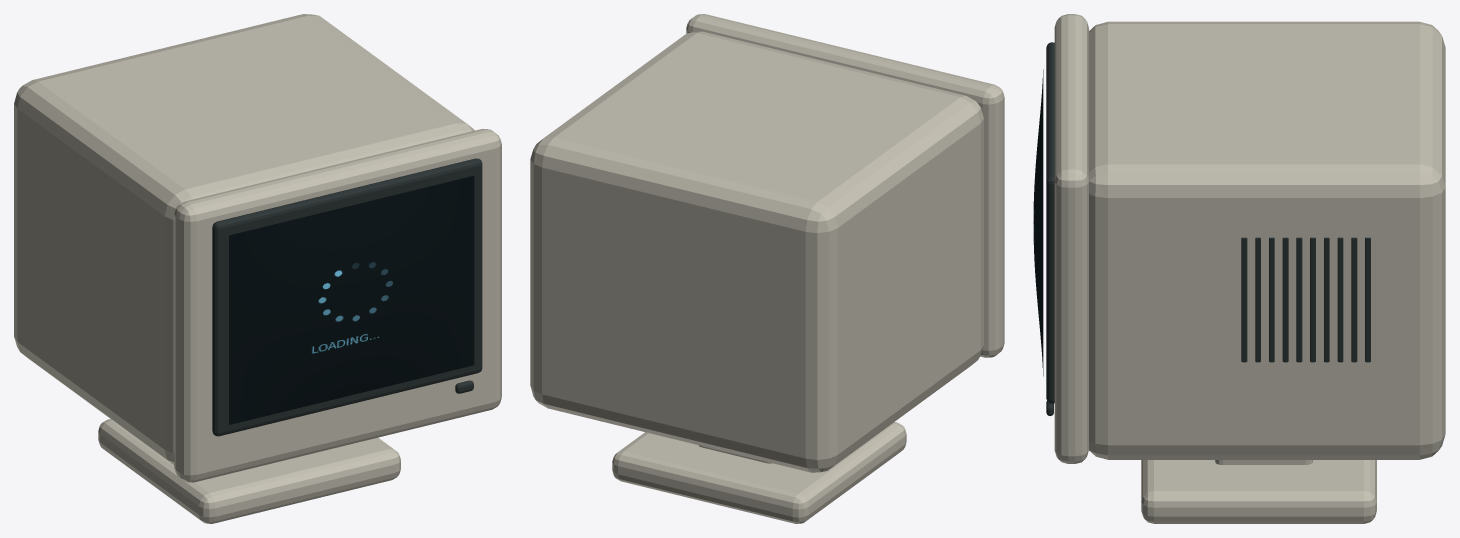
Rendered from obj-crt.glb.
3 renders of one model, left to right at view 1: azimuth 30°, elevation 25°; view 2: azimuth 150°, elevation 25°; view 3: azimuth 270°, elevation 25°, orthographic. The views are drawn at different scales.
Visible parts, largest first — view 1: crt; view 2: crt; view 3: crt.
Part boxes in pixels (<box>): crt: <box>14,14,501,523</box>; crt: <box>530,14,1004,523</box>; crt: <box>1033,14,1445,523</box>.
Size of the model in its own units: 0.4 by 0.432 by 0.42.
Materials: 3 (1 with a texture image).
